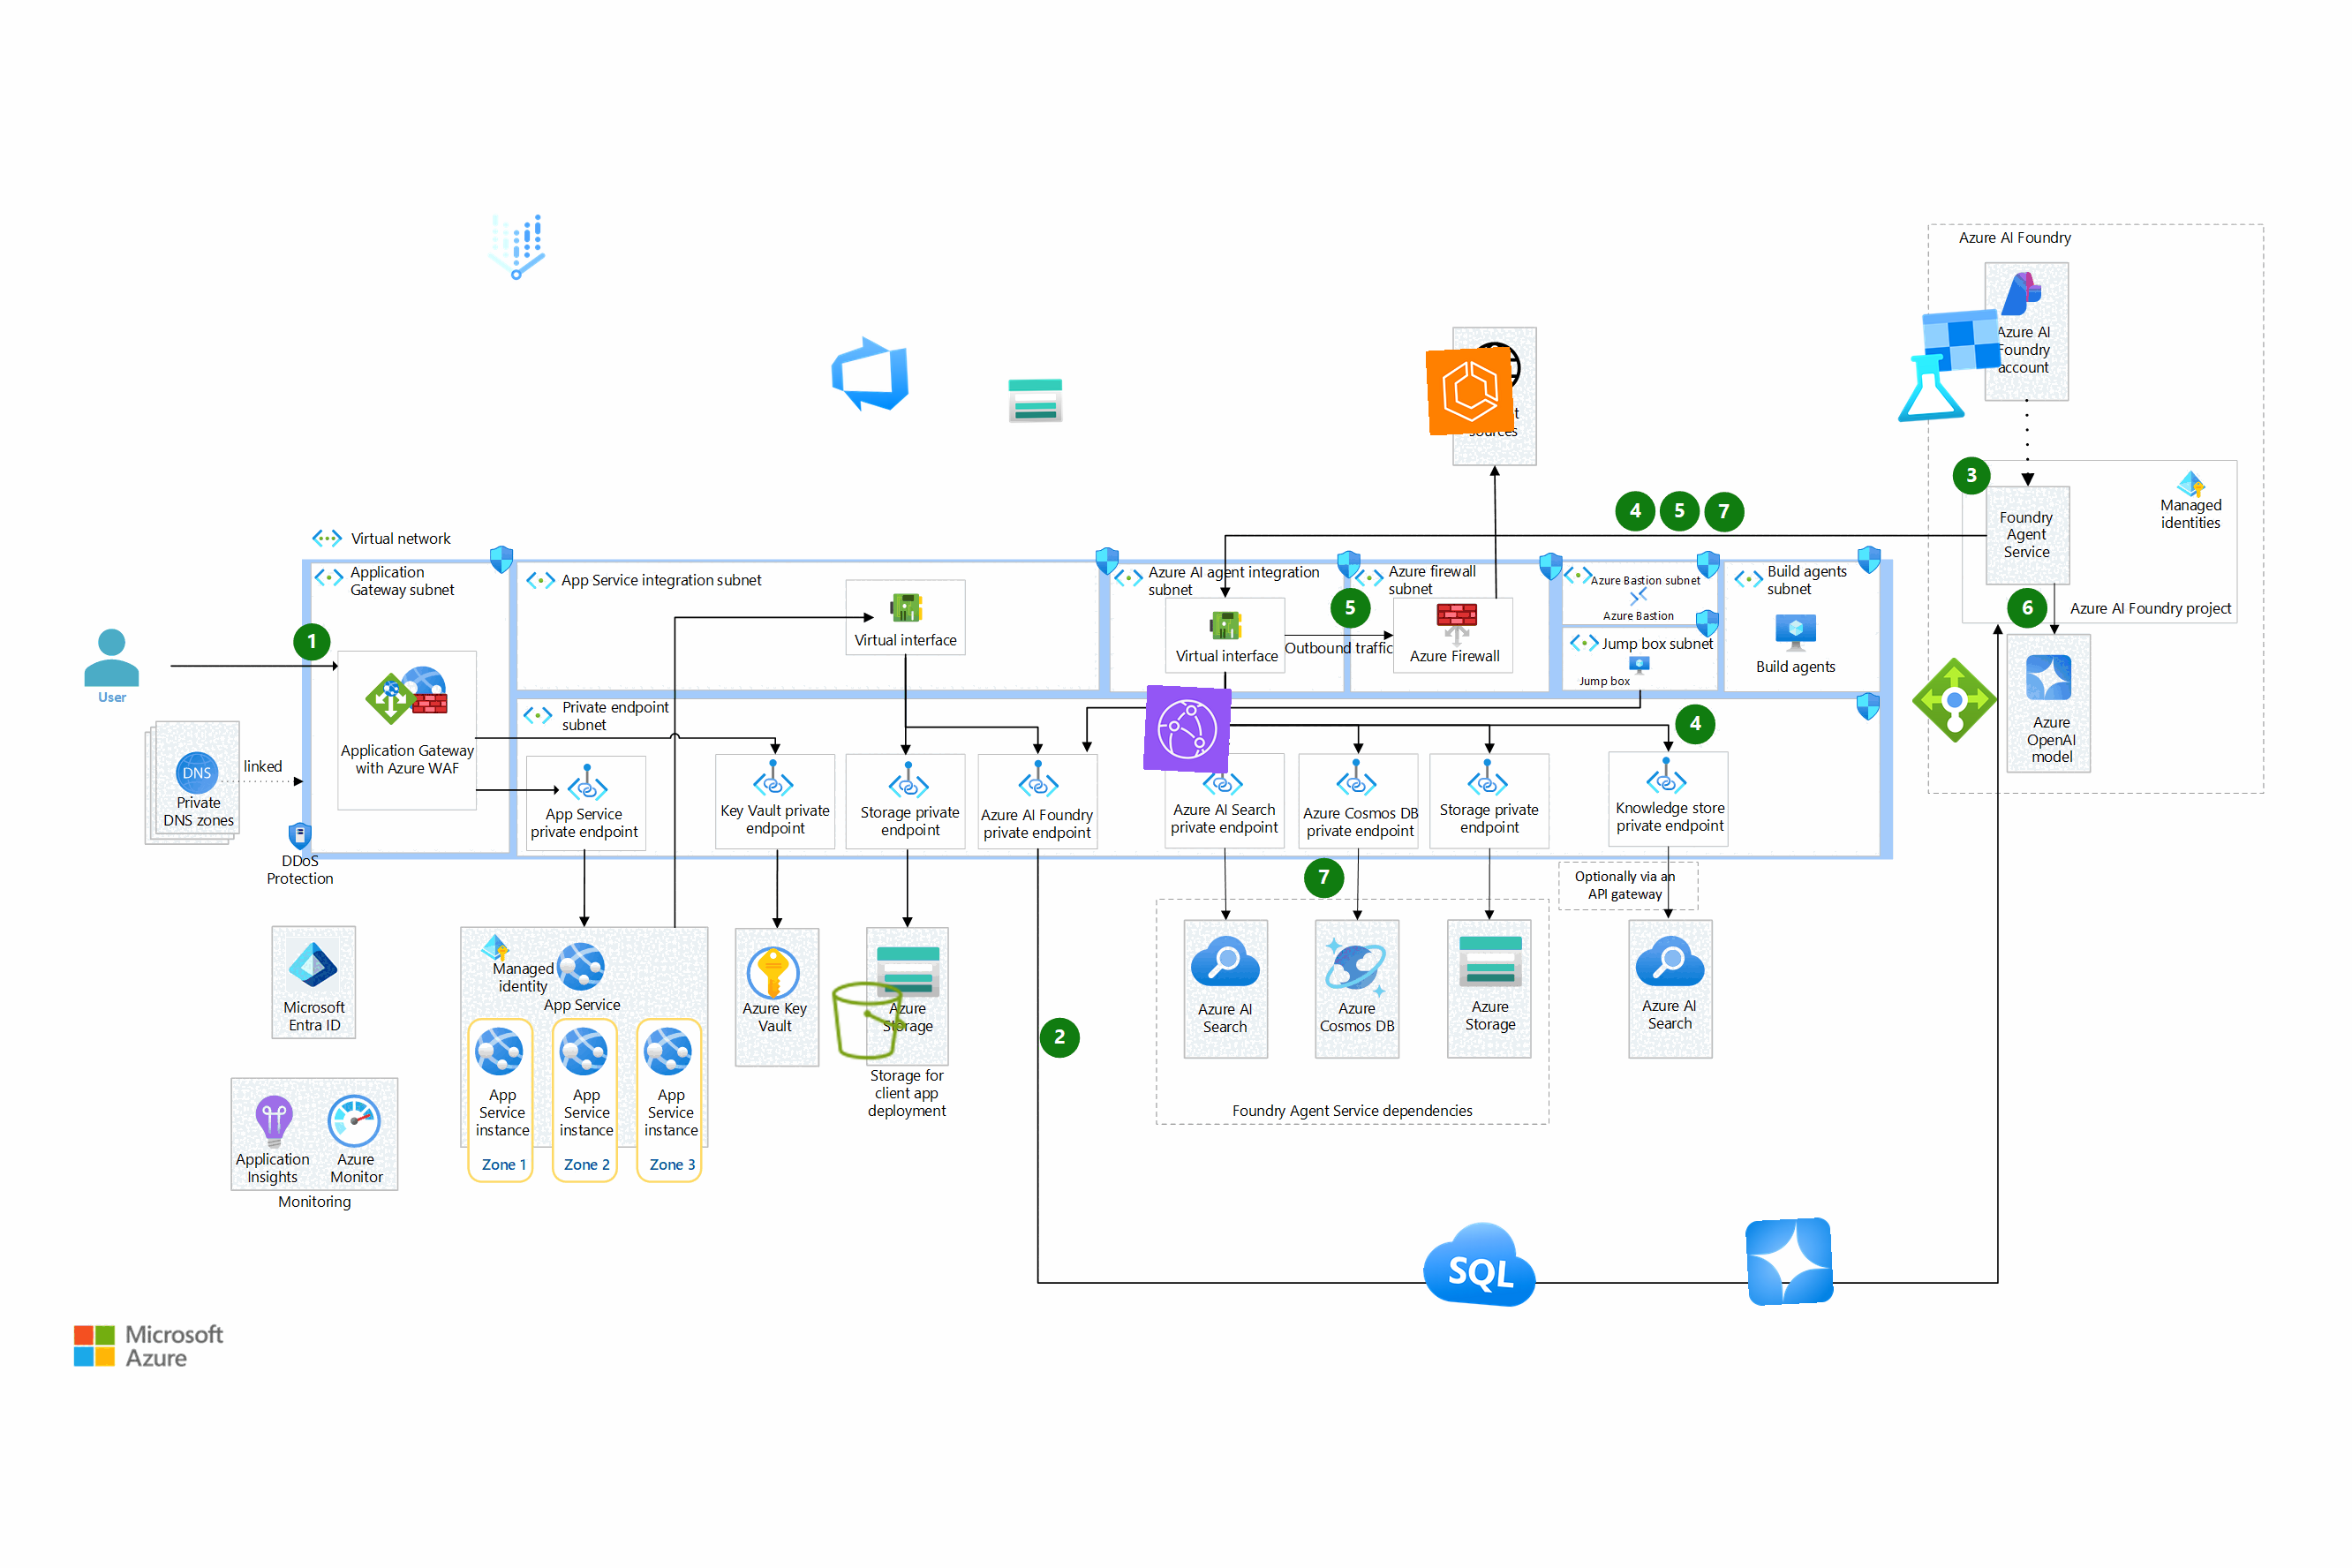aws_amazon_cloudfront: (1143, 684, 1232, 773)
aws_amazon_elastic_container_service: (1424, 346, 1515, 436)
aws_simple_storage_service_s3_standard: (826, 976, 912, 1064)
azure_devops: (824, 329, 915, 418)
azure_load_balancers: (1911, 656, 1999, 744)
azure_machine_learning_studio_workspaces: (1886, 304, 2009, 427)
azure_openai: (1745, 1216, 1834, 1307)
azure_sql: (1419, 1204, 1542, 1326)
azure_storage_accounts: (1006, 371, 1064, 430)
gcp_vertex_ai: (472, 205, 560, 290)
